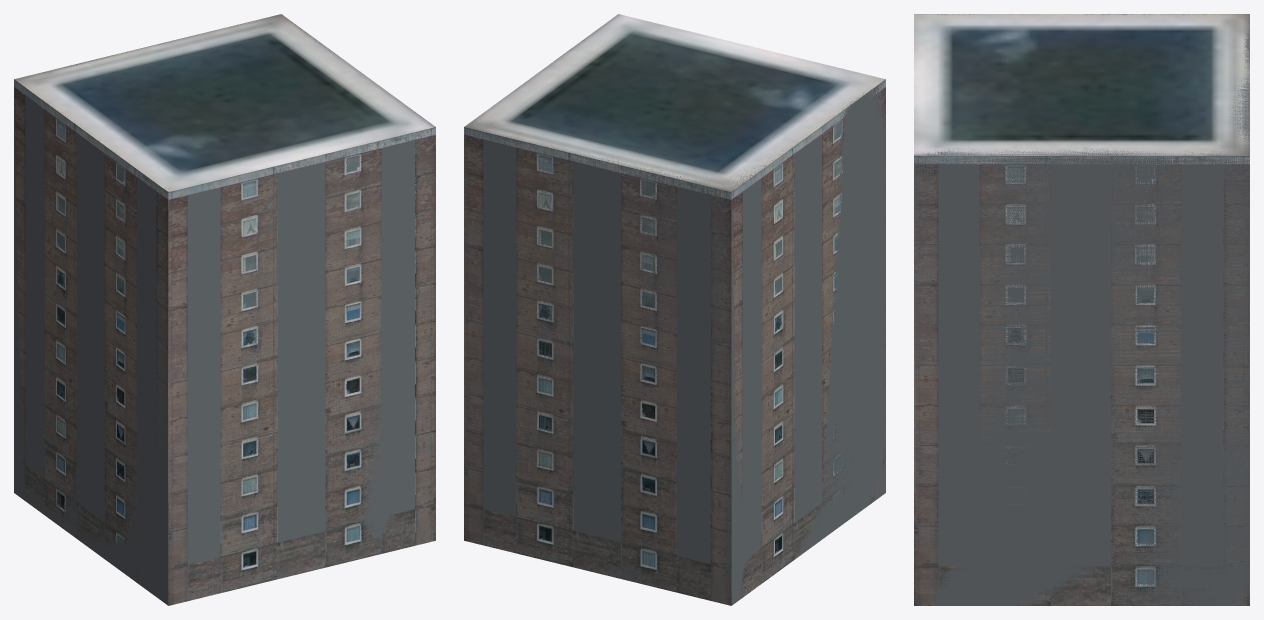
The model's file is building2.fbx.
3 renders of one model, left to right at view 1: azimuth 30°, elevation 25°; view 2: azimuth 150°, elevation 25°; view 3: azimuth 270°, elevation 25°, orthographic. The views are drawn at different scales.
Parts seen in each view (by area): view 1: Plane, Plane.025; view 2: Plane, Plane.025; view 3: Plane.025, Plane.
Boxes of the visible parts, x1,y1,x2,y2 form: Plane: (14, 14, 435, 605); Plane.025: (14, 14, 435, 605); Plane: (464, 14, 885, 605); Plane.025: (464, 17, 885, 605); Plane.025: (914, 14, 1249, 605); Plane: (914, 14, 1249, 605).
Size of the model in its own units: 2004 by 2962 by 2004.
